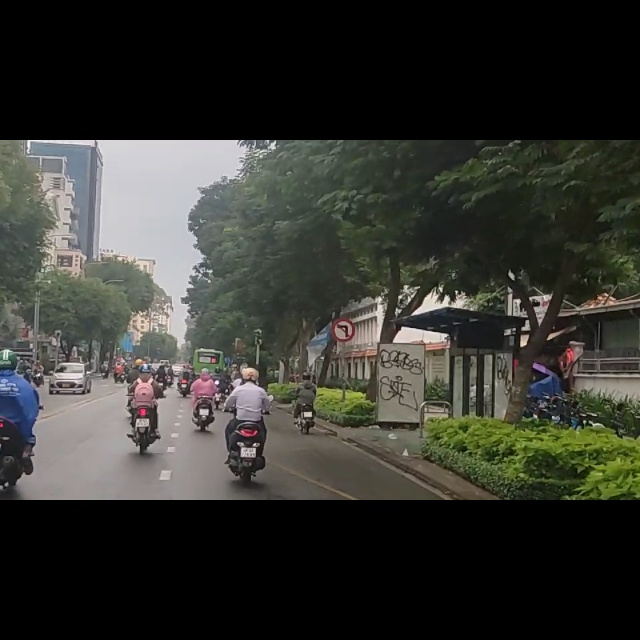bien_hieu_lenh: (331, 316, 355, 358)
